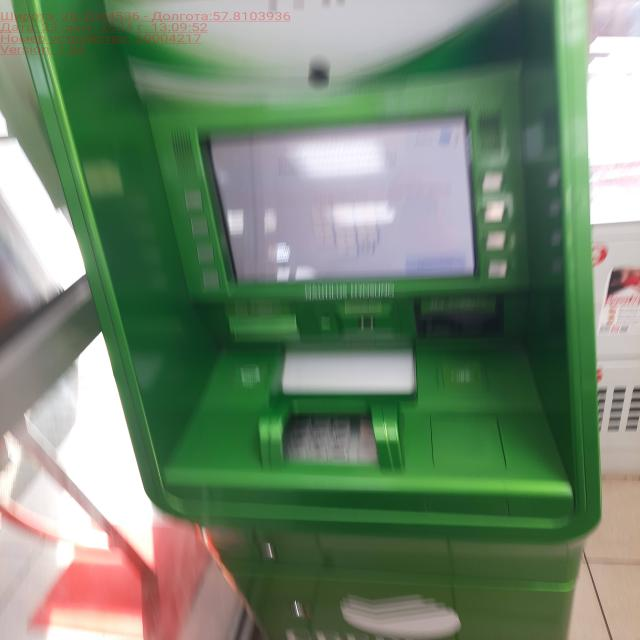bank: (7, 0, 606, 640)
